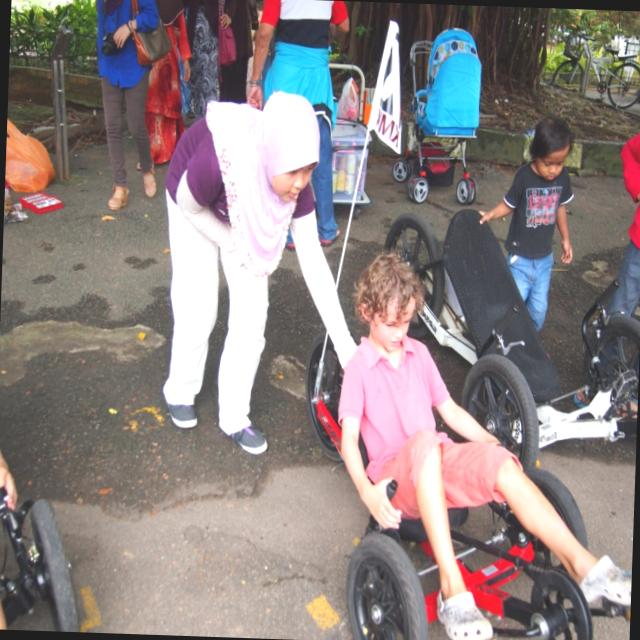Person: (310, 232, 633, 640), (142, 71, 356, 459), (473, 106, 586, 332)
